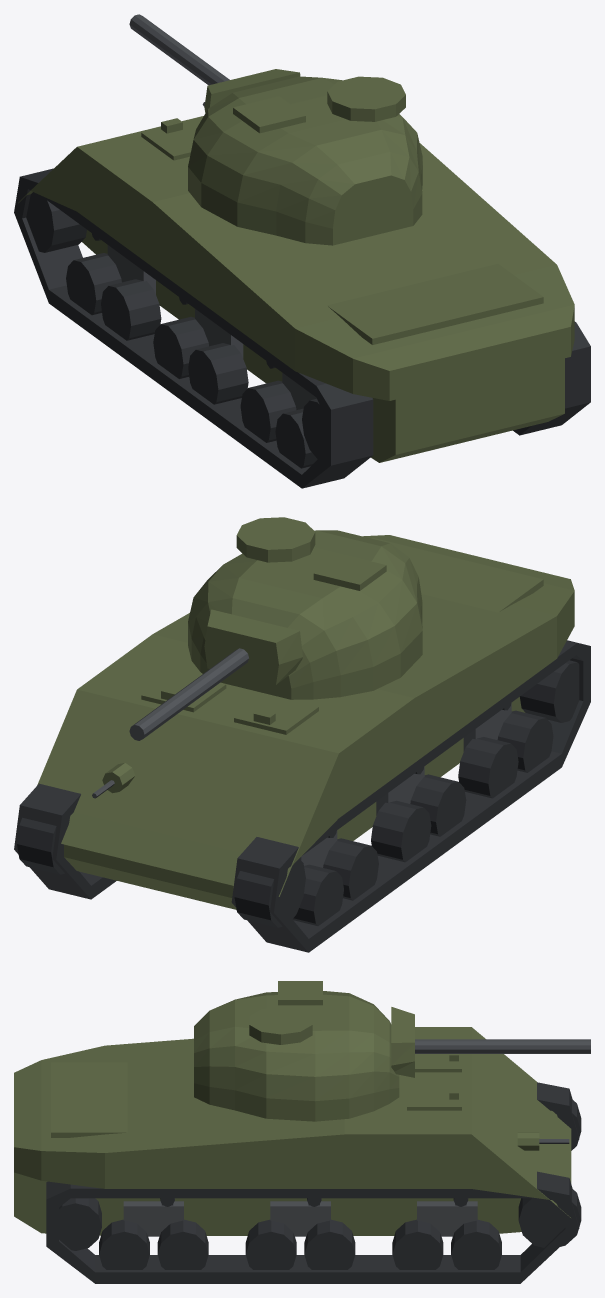
3 renders of one model, top to bottom at view 1: azimuth 30°, elevation 25°; view 2: azimuth 150°, elevation 25°; view 3: azimuth 270°, elevation 25°, orthographic. The views are drawn at different scales.
Parts seen in each view (by area): view 1: M4_Hull, M4_Turret, M4_Track_L, M4_EngineDeck, M4_Cupola, M4_Wheel_L20, M4_Wheel_L10, M4_Track_R, M4_Wheel_L01, M4_Wheel_L11, M4_Wheel_L21, M4_Sprocket_L (+8 smaller); view 2: M4_Hull, M4_Turret, M4_Track_L, M4_EngineDeck, M4_Mantlet, M4_Track_R, M4_Cupola, M4_Wheel_L11, M4_Wheel_L01, M4_Sprocket_L, M4_Idler_L, M4_Gun (+12 smaller); view 3: M4_Hull, M4_Turret, M4_Track_R, M4_EngineDeck, M4_Gun, M4_Wheel_R01, M4_Wheel_R10, M4_Wheel_R20, M4_Wheel_R11, M4_Wheel_R00, M4_Wheel_R21, M4_Cupola (+11 smaller).
Boxes of the visible parts, x1,y1,x2,y2 form: M4_Hull: (18, 116, 574, 462); M4_Turret: (188, 76, 422, 245); M4_Track_L: (14, 168, 373, 488); M4_EngineDeck: (327, 264, 543, 344); M4_Cupola: (327, 76, 405, 121); M4_Wheel_L20: (101, 279, 161, 340); M4_Wheel_L10: (188, 343, 248, 404); M4_Track_R: (513, 321, 590, 435); M4_Wheel_L01: (240, 380, 296, 442); M4_Wheel_L11: (153, 317, 208, 378); M4_Wheel_L21: (66, 253, 121, 315); M4_Sprocket_L: (26, 192, 86, 252); M4_Hull: (37, 535, 574, 909); M4_Turret: (188, 530, 422, 699); M4_Track_L: (231, 640, 590, 952); M4_EngineDeck: (371, 537, 543, 612); M4_Mantlet: (204, 609, 302, 684); M4_Track_R: (14, 783, 116, 899); M4_Cupola: (236, 517, 315, 562); M4_Wheel_L11: (371, 800, 431, 862); M4_Wheel_L01: (458, 737, 518, 798); M4_Sprocket_L: (234, 858, 305, 927); M4_Idler_L: (520, 660, 579, 722); M4_Gun: (129, 648, 248, 740); M4_Hull: (14, 1027, 571, 1235); M4_Turret: (194, 991, 399, 1121); M4_Track_R: (46, 1171, 579, 1283); M4_EngineDeck: (51, 1062, 127, 1137); M4_Gun: (415, 1039, 590, 1053); M4_Wheel_R01: (157, 1219, 208, 1269); M4_Wheel_R10: (245, 1219, 296, 1269); M4_Wheel_R20: (392, 1219, 443, 1269); M4_Wheel_R11: (304, 1219, 355, 1269); M4_Wheel_R00: (99, 1219, 149, 1269); M4_Wheel_R21: (451, 1219, 501, 1269); M4_Cupola: (249, 1006, 312, 1044).
Size of the model in its own units: 2.6 by 2.58 by 5.9.
